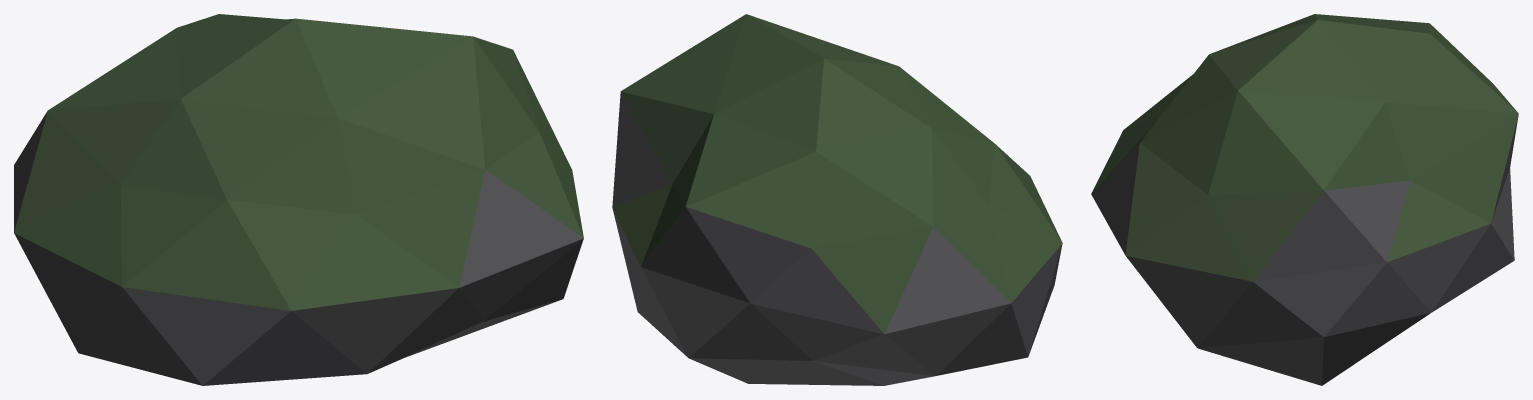
Rendered from ench_boulder.fbx.
3 renders of one model, left to right at view 1: azimuth 30°, elevation 25°; view 2: azimuth 150°, elevation 25°; view 3: azimuth 270°, elevation 25°, orthographic. The views are drawn at different scales.
Visible parts, largest first — view 1: rockmoss_1, rock_1; view 2: rockmoss_1, rock_1; view 3: rockmoss_1, rock_1.
Part boxes in pixels (x1=…): rockmoss_1: x1=14, y1=14, x2=583, y2=310; rock_1: x1=14, y1=111, x2=583, y2=385; rockmoss_1: x1=612, y1=14, x2=1062, y2=333; rock_1: x1=612, y1=92, x2=1062, y2=385; rockmoss_1: x1=1091, y1=14, x2=1518, y2=281; rock_1: x1=1091, y1=115, x2=1518, y2=385.
Size of the model in its own units: 0.515 by 0.3536 by 0.4513.
